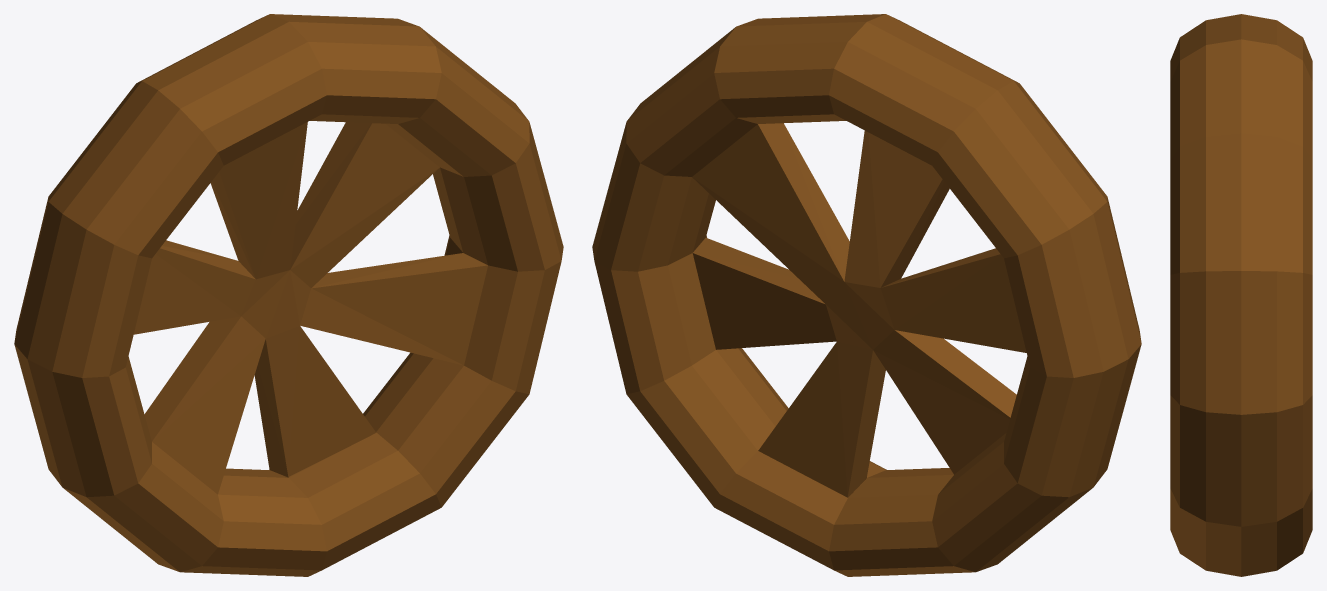
Rendered from woodHouseWheel.dae.
The picture shows the model from 3 angles, left to right: view 1: azimuth 30°, elevation 25°; view 2: azimuth 150°, elevation 25°; view 3: azimuth 270°, elevation 25°; orthographic projection. The views are drawn at different scales.
Visible parts, largest first — view 1: polySurface7; view 2: polySurface7; view 3: polySurface7.
Part boxes in pixels (<box>): polySurface7: <box>14,14,563,576</box>; polySurface7: <box>592,14,1141,576</box>; polySurface7: <box>1170,14,1312,576</box>.
Bounding box in the file's own units: 68.55 × 68.55 × 17.26.
1 material, 1 textured.
